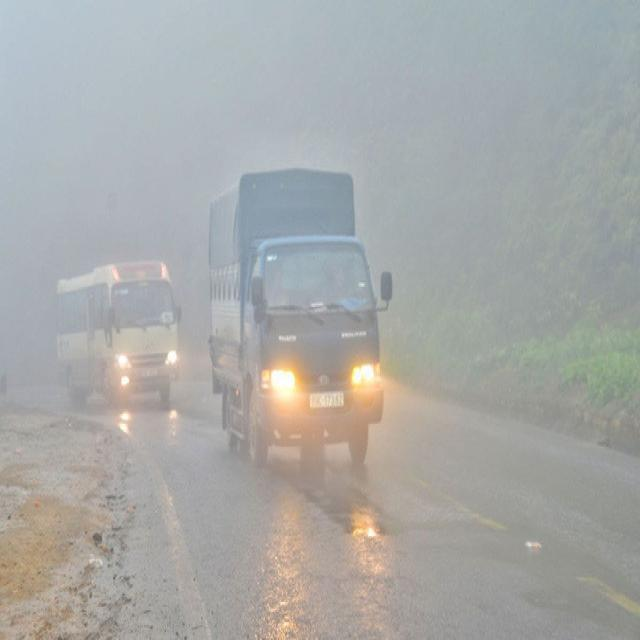Bus: (56, 253, 180, 409)
Truck: (209, 164, 392, 472)
